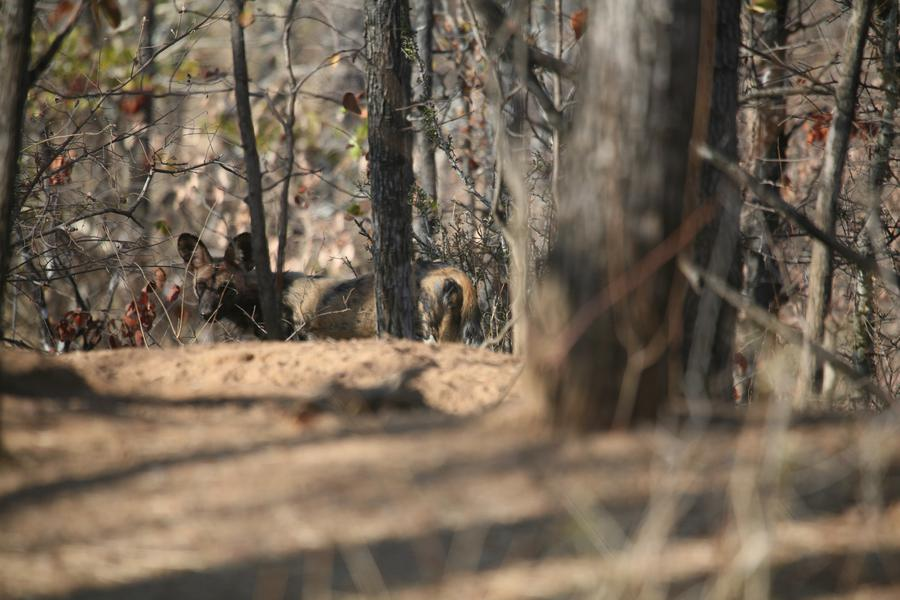wilddog: (176, 226, 482, 342)
